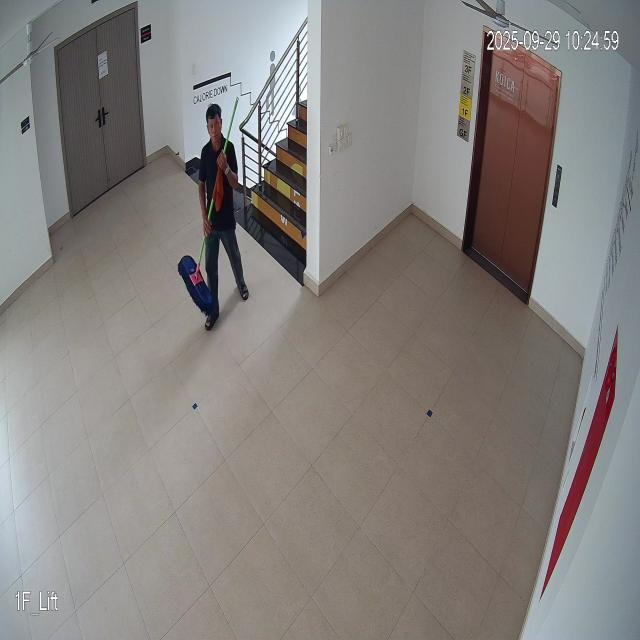face: (203, 103, 225, 150)
